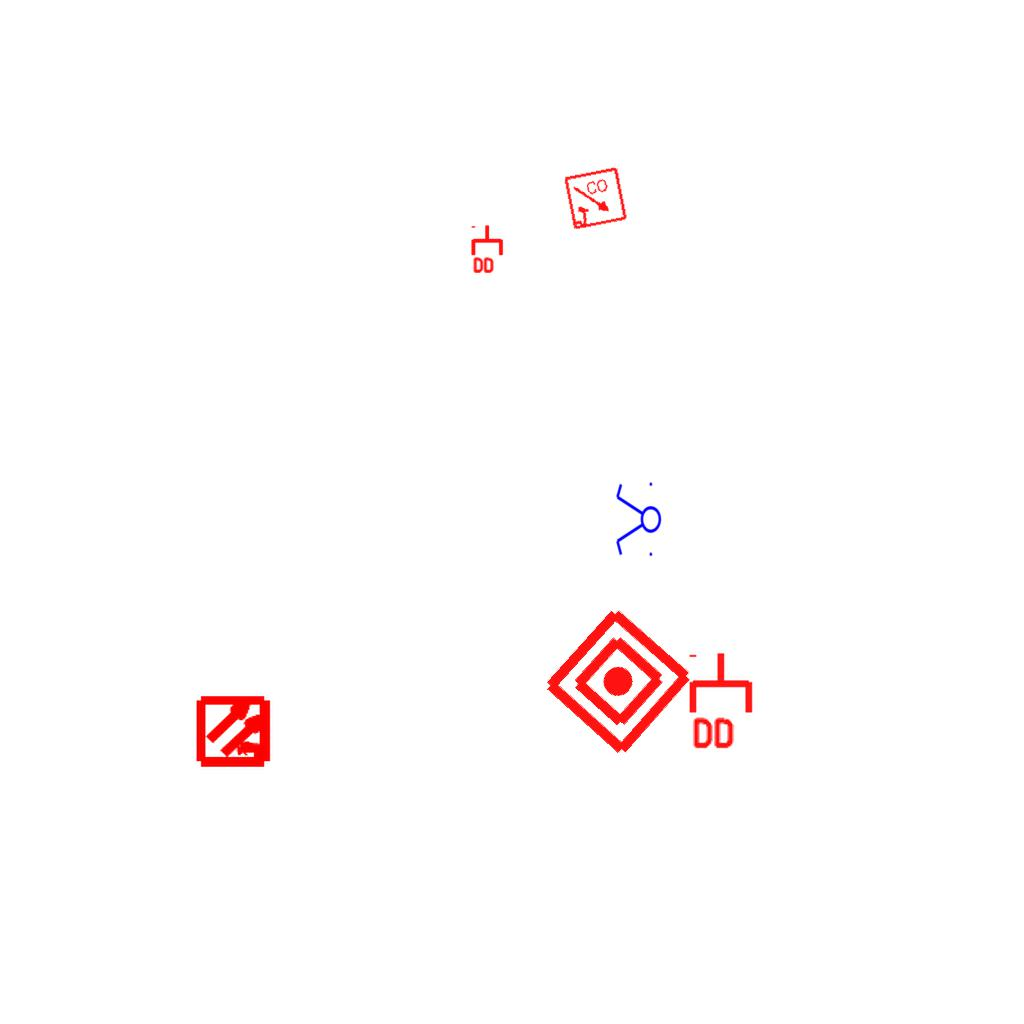Datenanschluss_zweifach: (688, 650, 757, 753), (471, 224, 505, 275)
NAM-Nichtautomatischer_Melder: (538, 601, 699, 762)
OT_Multisensormelder_(Kombination_RMO_WMD): (179, 675, 292, 788)
ROA_Rauchmelder_optisch_mit_Signalgeber_(Sockelsirene): (563, 166, 629, 232)
Serienschalter: (614, 478, 662, 562)
